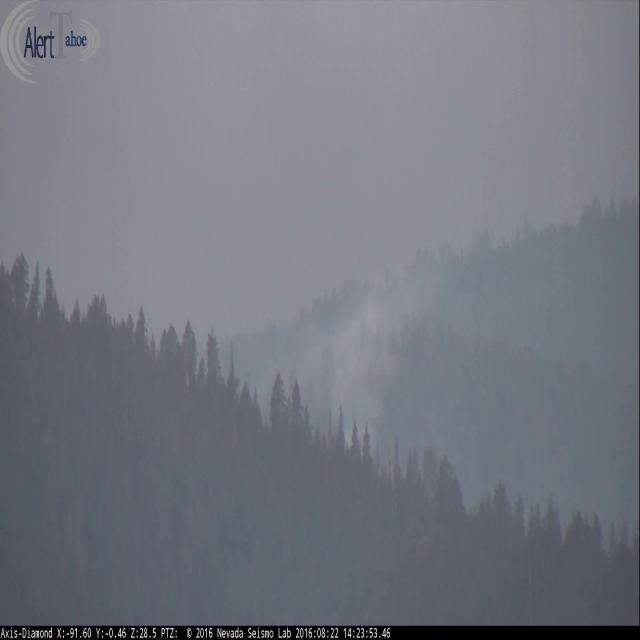smoke: (257, 260, 468, 452)
